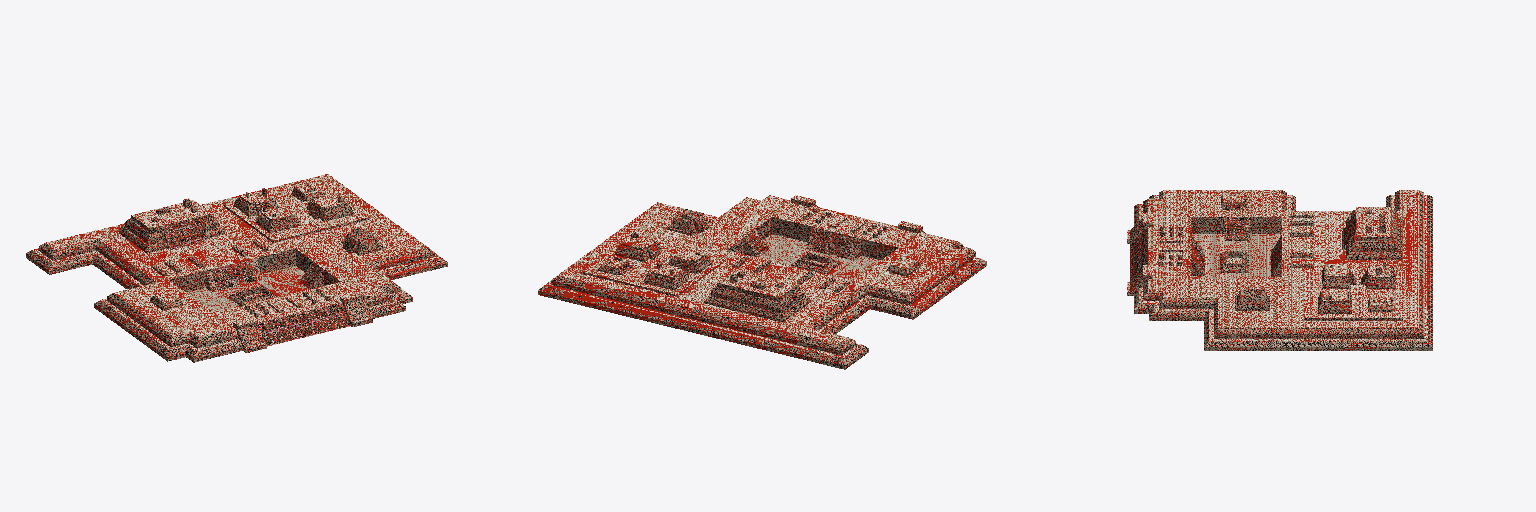
The picture shows the model from 3 angles: view 1: azimuth 30°, elevation 25°; view 2: azimuth 150°, elevation 25°; view 3: azimuth 270°, elevation 25°; orthographic projection.
Parts seen in each view (by area): view 1: Mesh1 Model; view 2: Mesh1 Model; view 3: Mesh1 Model.
Part boxes in pixels (x1,y1,x2,y2): Mesh1 Model: (26,174,447,362); Mesh1 Model: (538,195,986,369); Mesh1 Model: (1127,190,1432,350).
Bounding box in the file's own units: 150 × 21.04 × 130.
5 materials, 4 textured.